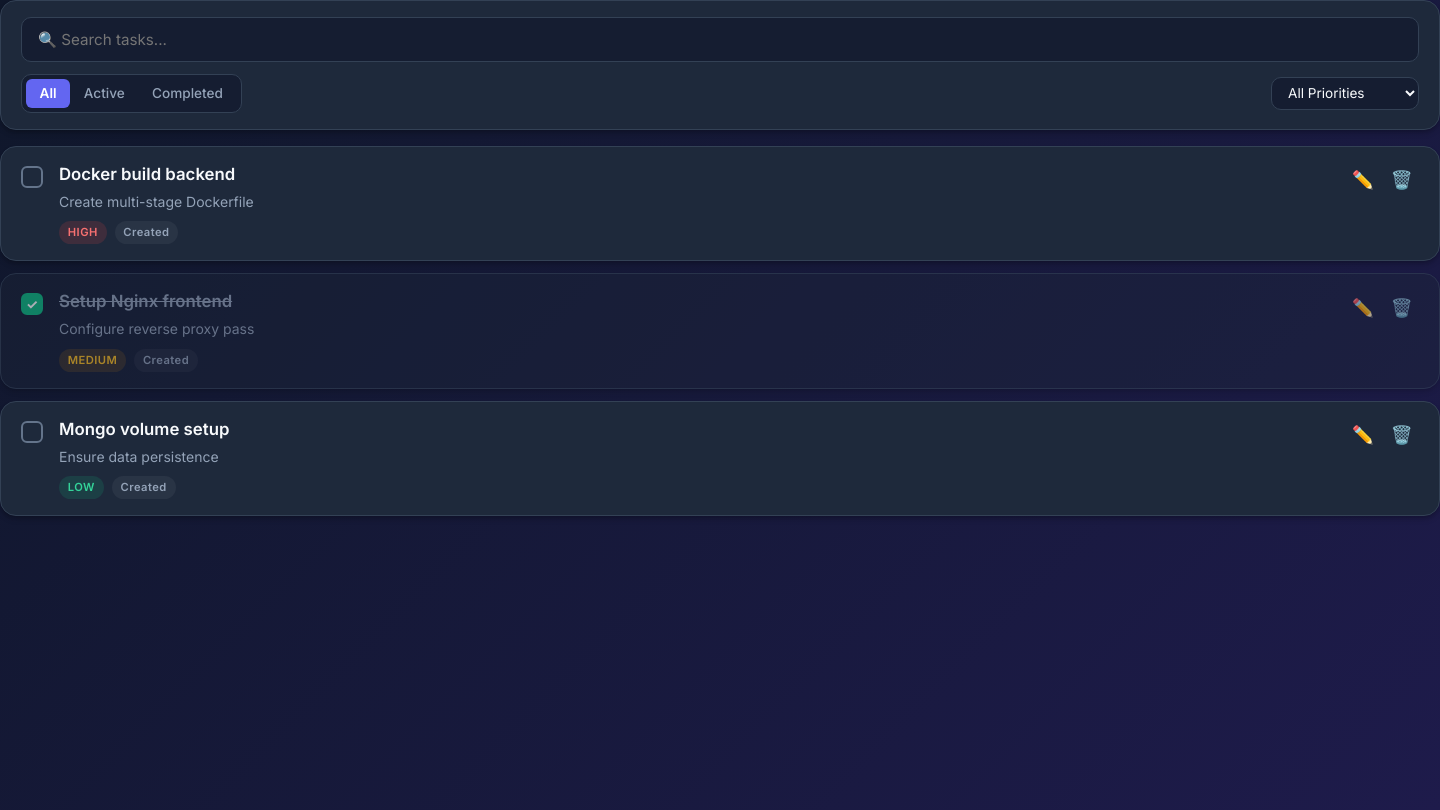
Test: TodoList Component Edge Cases › should filter by priority select dropdown
Step 1. Select "Low Priority" in the dropdown named "Filter by priority" → (1345,93), box [1271, 77, 1419, 110]
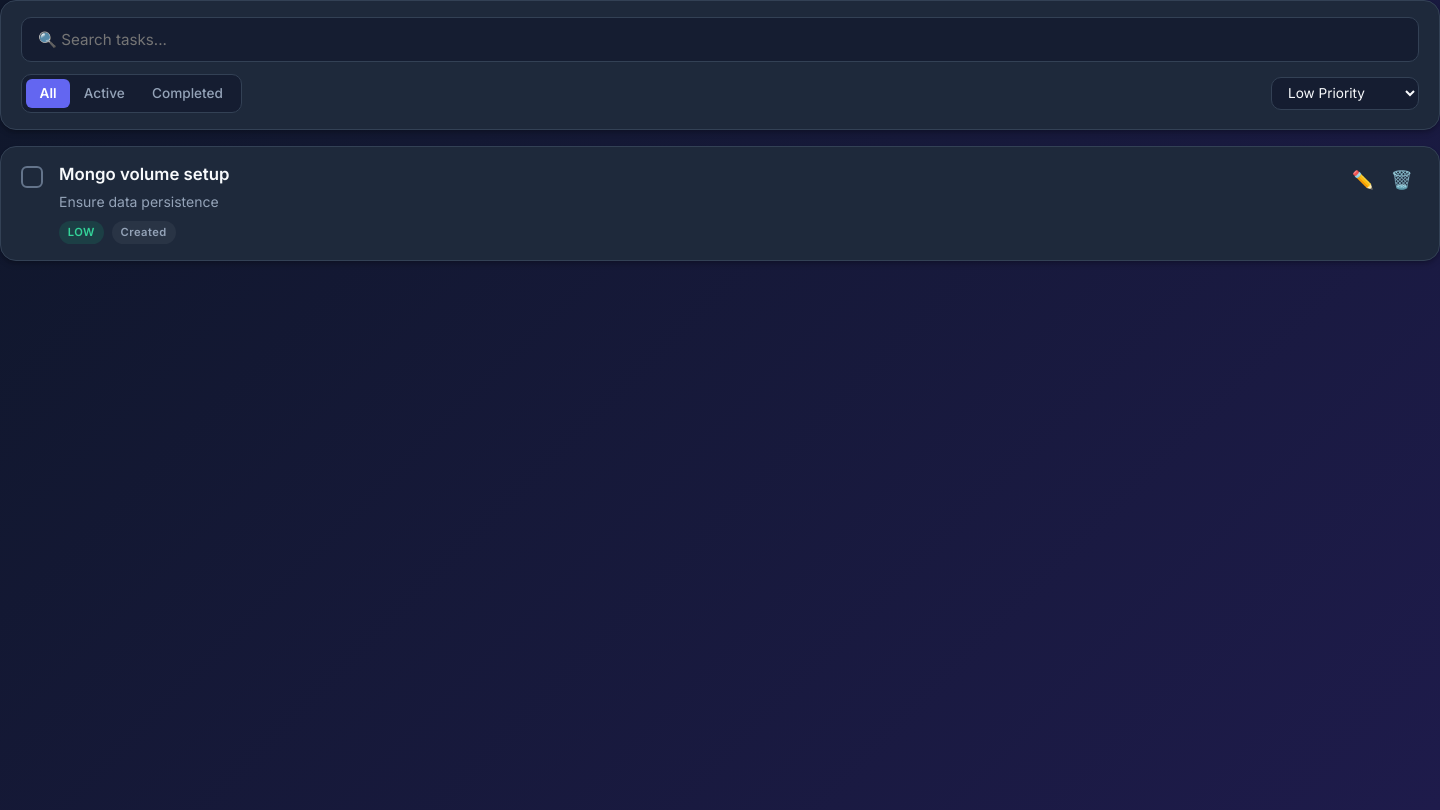
Check: the heading "Mongo volume setup" is shown, box [59, 164, 229, 184]
Check: the heading "Docker build backend" is gone
Check: the heading "Setup Nginx frontend" is gone
